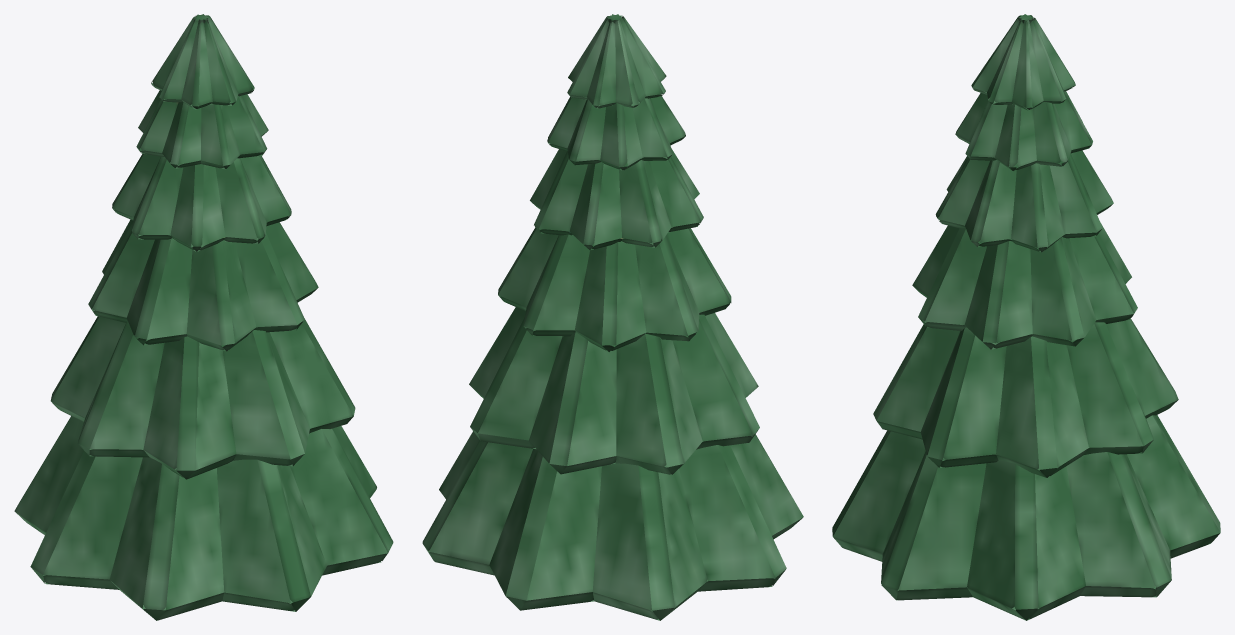
File: tree_pine1.fbx
3 views of the same model, side by side, from view 1: azimuth 30°, elevation 25°; view 2: azimuth 150°, elevation 25°; view 3: azimuth 270°, elevation 25° (orthographic).
Visible parts, largest first — view 1: pCylinder1, pCylinder2, pCylinder3, pCylinder4, pCylinder5, pCylinder6; view 2: pCylinder1, pCylinder2, pCylinder3, pCylinder4, pCylinder5, pCylinder6; view 3: pCylinder1, pCylinder2, pCylinder3, pCylinder4, pCylinder5, pCylinder6.
Boxes of the visible parts, box(x1,y1,x2,y2) form: pCylinder1: box(14, 416, 393, 620); pCylinder2: box(50, 316, 355, 479); pCylinder3: box(88, 219, 318, 351); pCylinder4: box(112, 153, 291, 251); pCylinder5: box(136, 90, 268, 169); pCylinder6: box(151, 14, 254, 109); pCylinder1: box(422, 431, 803, 620); pCylinder2: box(469, 307, 759, 474); pCylinder3: box(498, 227, 731, 352); pCylinder4: box(530, 148, 703, 250); pCylinder5: box(547, 96, 685, 170); pCylinder6: box(567, 14, 666, 108); pCylinder1: box(832, 415, 1220, 620); pCylinder2: box(873, 318, 1178, 477); pCylinder3: box(912, 223, 1137, 349); pCylinder4: box(935, 150, 1113, 252); pCylinder5: box(955, 91, 1092, 171); pCylinder6: box(971, 14, 1075, 110).
Size of the model in its own units: 204 by 319 by 204.
1 material, 1 textured.
